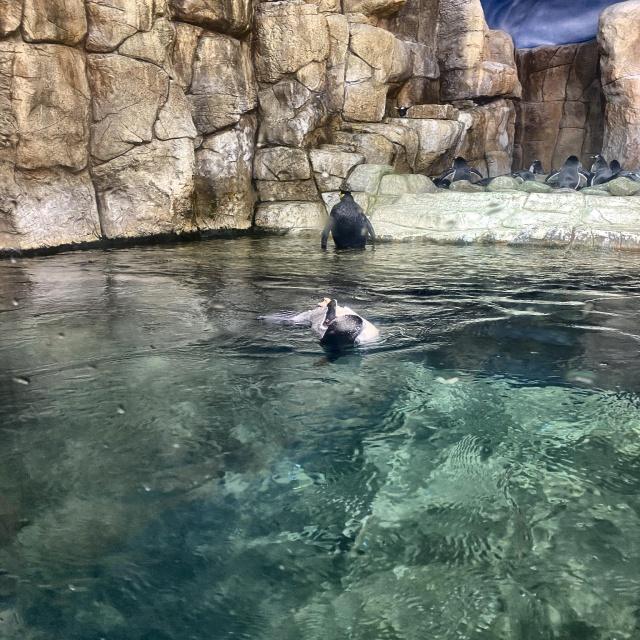penguin: (291, 297, 382, 354), (316, 184, 381, 258), (550, 152, 589, 194), (442, 153, 481, 189), (585, 151, 608, 188), (392, 102, 423, 123), (608, 157, 627, 184), (522, 159, 546, 175)
